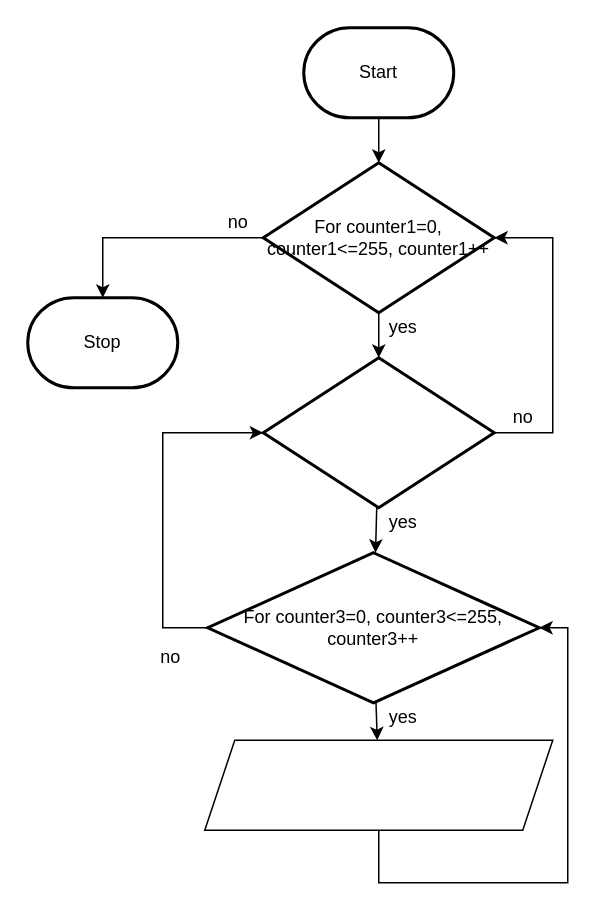
The diagram is 606 pixels wide and 921 high, and some of its shapes have lost their labels. Here are the shapes that lost their labels. From the top down, the centre of each, then its label:
[378,432]: For counter2 =0,counter2 <=255,counter2 ++
[378,784]: print "RGB("counter1","counter2","counter3")"
